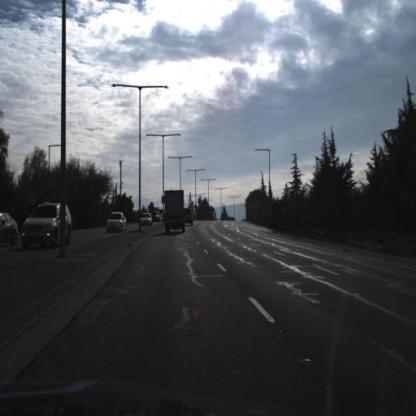car: (22, 203, 73, 252), (100, 209, 131, 236), (1, 213, 19, 246), (106, 211, 128, 234), (185, 203, 197, 228), (141, 213, 154, 230), (185, 209, 195, 227), (152, 211, 161, 225), (208, 211, 216, 223)
truck: (165, 190, 186, 234)
